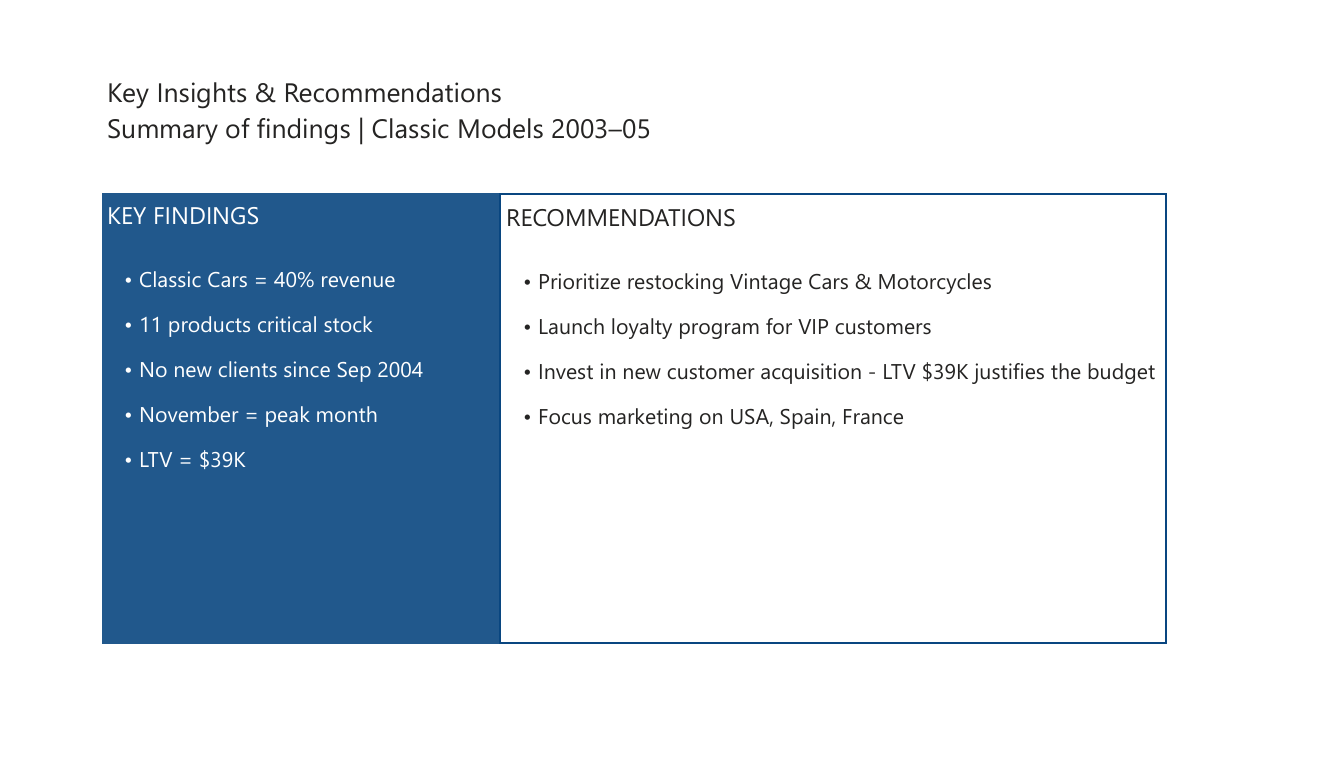

The dashboard page shown, as its layout file describes it:
{"tool":"powerbi","page":{"name":"Key Insights & Recommendations","canvas":[1280,720],"ordinal":6},"visuals":[{"type":"textbox","box":[78.2,43.9,1064.8,83.7],"z":1000},{"type":"textbox","box":[78.2,168.8,396.6,451.5],"z":2000},{"type":"textbox","box":[474.8,168.8,668.3,451.5],"z":3000}]}

Visuals, with their boxes in screenshot pixels (x1, y1, x2, y2), scaled from the page's 1280x720 canvas onto the 1328x768 screenshot:
textbox: box(81, 47, 1186, 136)
textbox: box(81, 180, 493, 662)
textbox: box(493, 180, 1186, 662)
